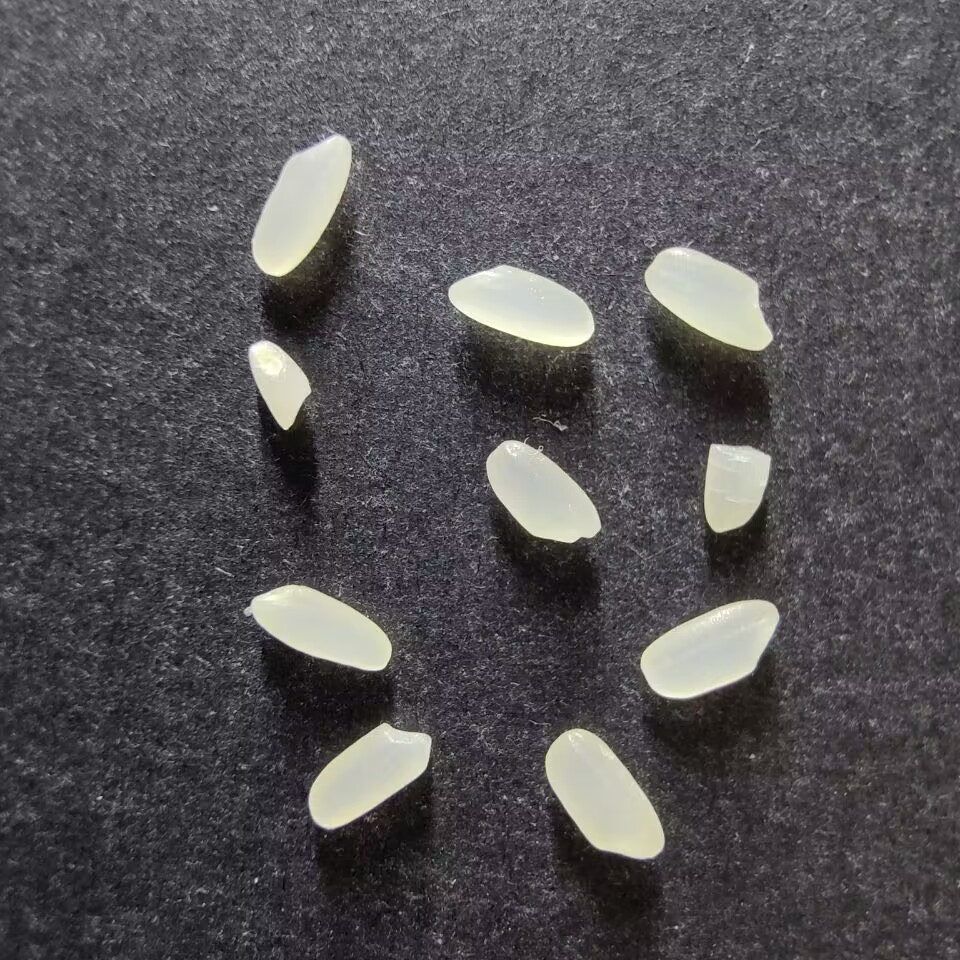broken: (703, 443, 771, 533), (246, 339, 312, 431)
rice: (544, 728, 664, 860), (250, 132, 352, 277), (640, 598, 779, 699), (643, 246, 773, 351), (307, 722, 431, 830), (249, 584, 391, 672), (447, 264, 595, 347), (485, 440, 601, 543)
